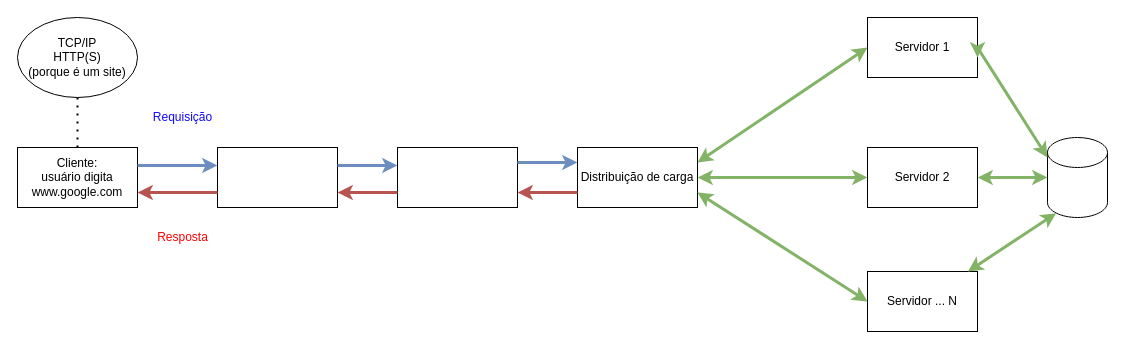
The diagram is 1125 pixels wide and 349 high, and some of its shapes have lost their labels. Each missing label, with the box of its shape:
Banco de dados: (1046, 136, 1108, 218)
DNS: (396, 146, 518, 208)
ISP: (216, 146, 338, 208)
